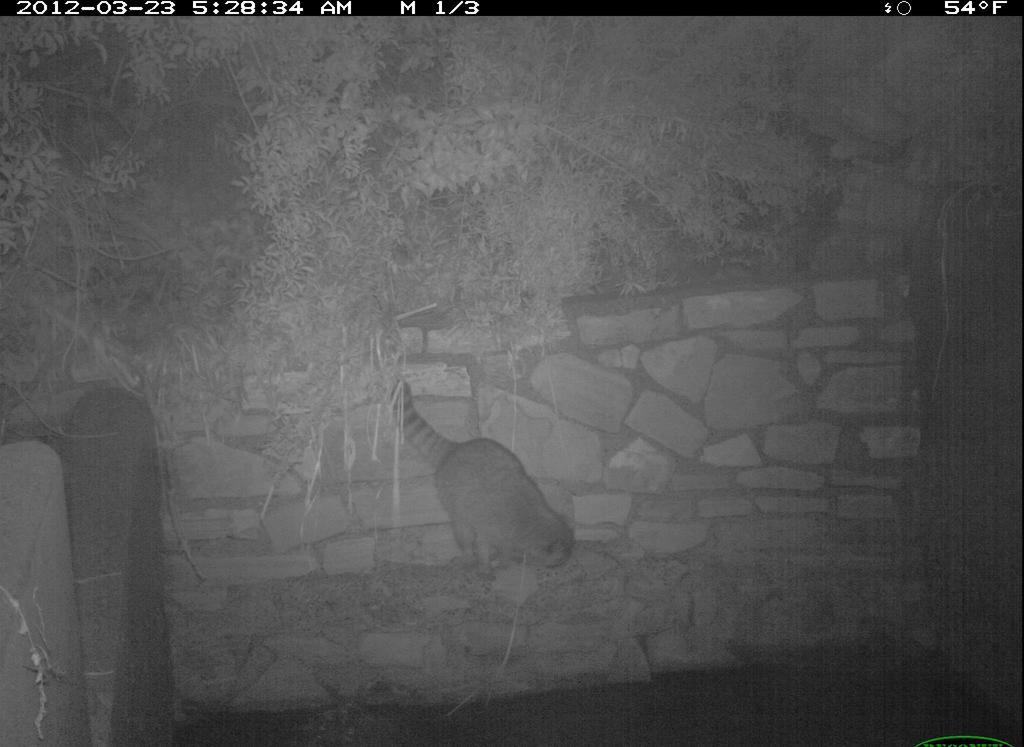raccoon: (379, 370, 583, 592)
